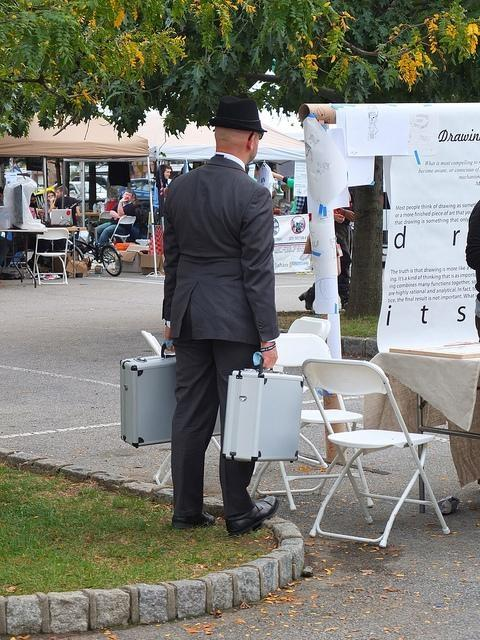bicycle: (73, 220, 122, 277)
car: (69, 182, 107, 200), (72, 174, 108, 188)
